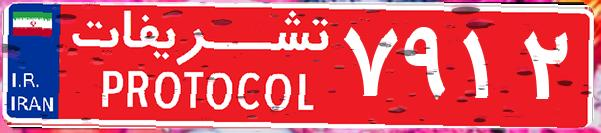1: (460, 20, 520, 115)
2: (520, 20, 580, 115)
7: (340, 20, 400, 115)
9: (400, 20, 460, 115)
تشریفات: (60, 8, 340, 125)
